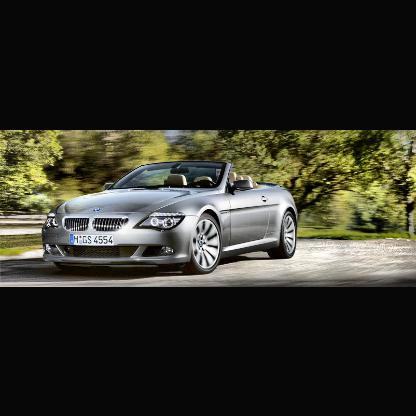BMW 6 Series Convertible 2007: (39, 159, 299, 273)
